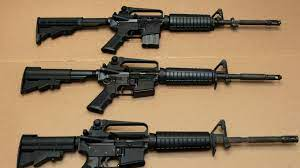gun: (31, 5, 287, 58)
